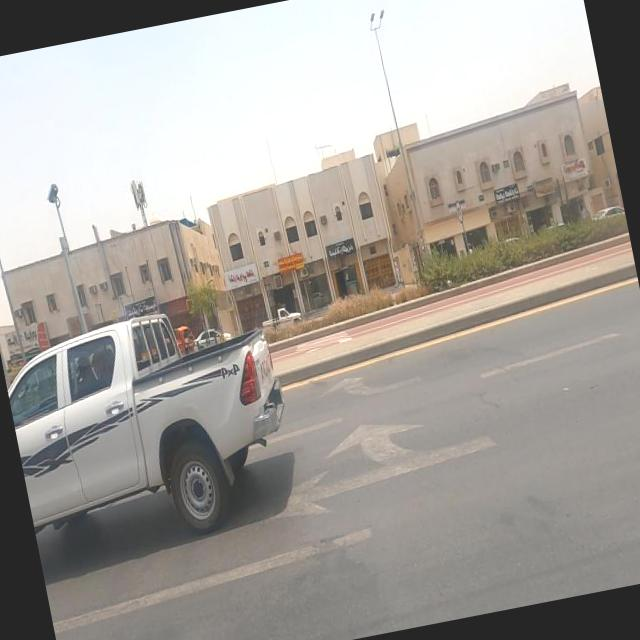debris: (34, 262, 130, 370), (510, 142, 578, 232)
